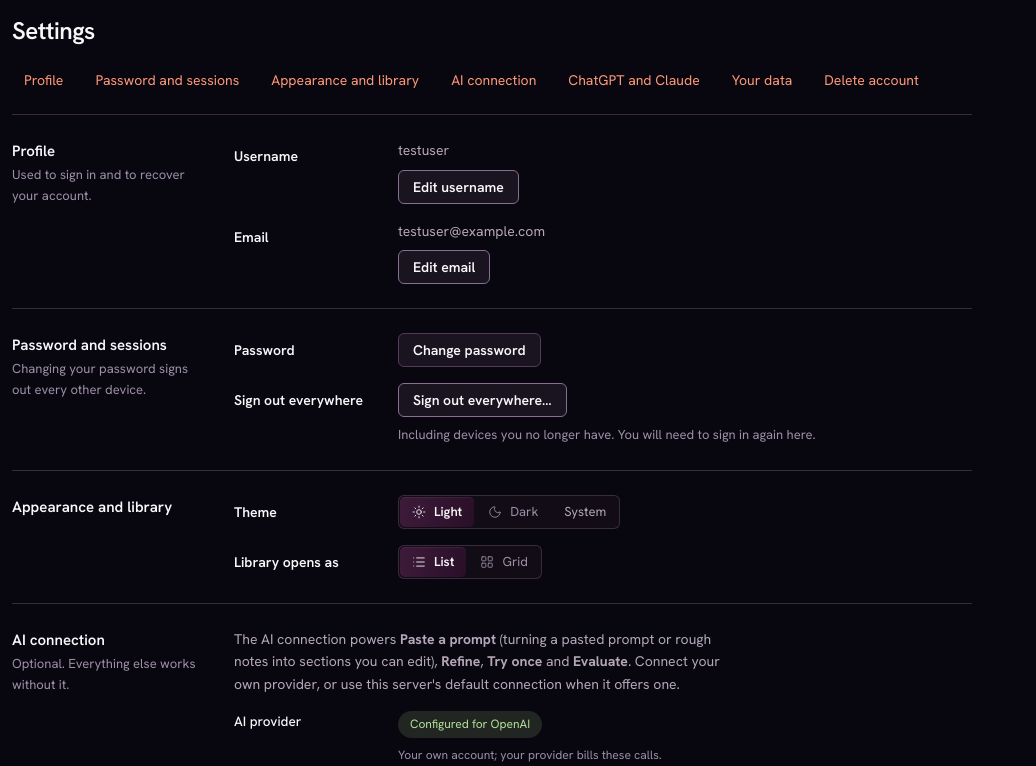
it: SettingsPage › shows an inline error when saving an empty username instead of silently ignoring it
This screenshot has width=1036, height=766.
Click the button "Edit username" at (458, 187), box [398,170,519,204]
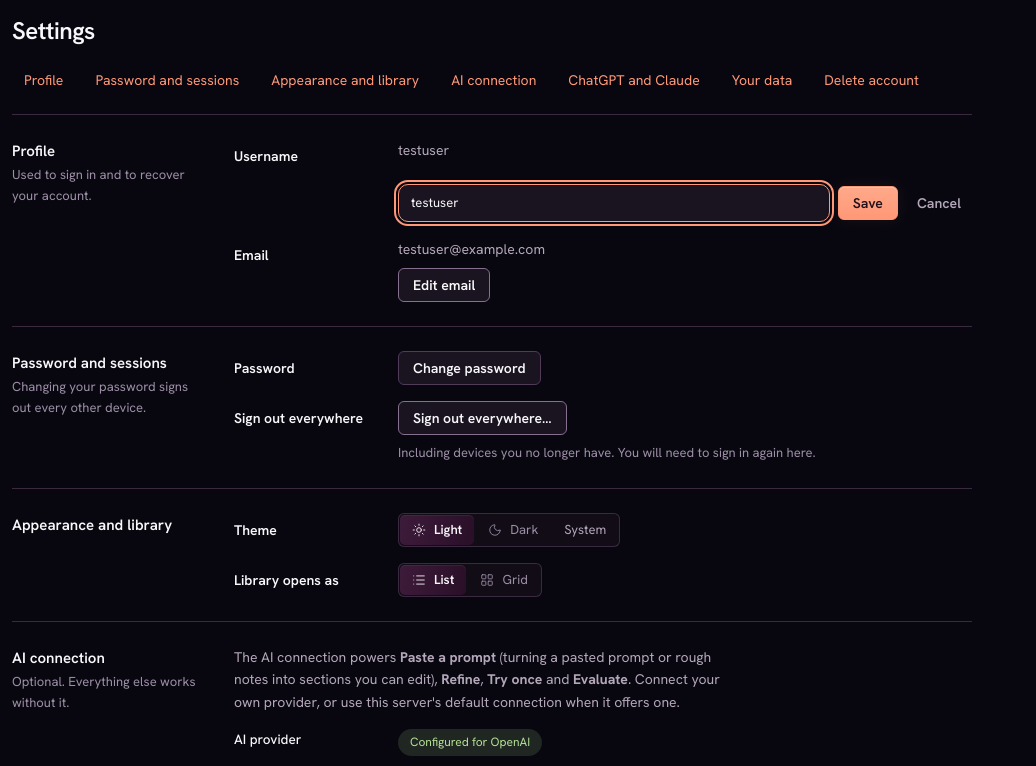
Clear the field showing "testuser" at (614, 203), box [398,184,830,222]
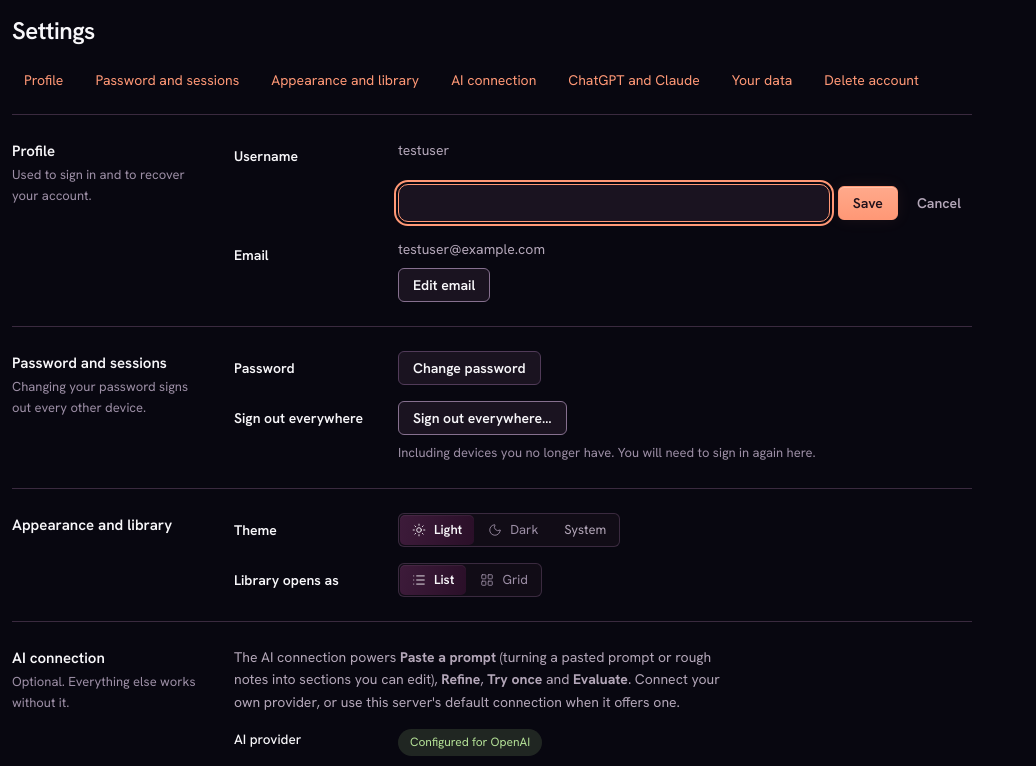
Click the button "Save" at (868, 203), box [838,186,898,220]
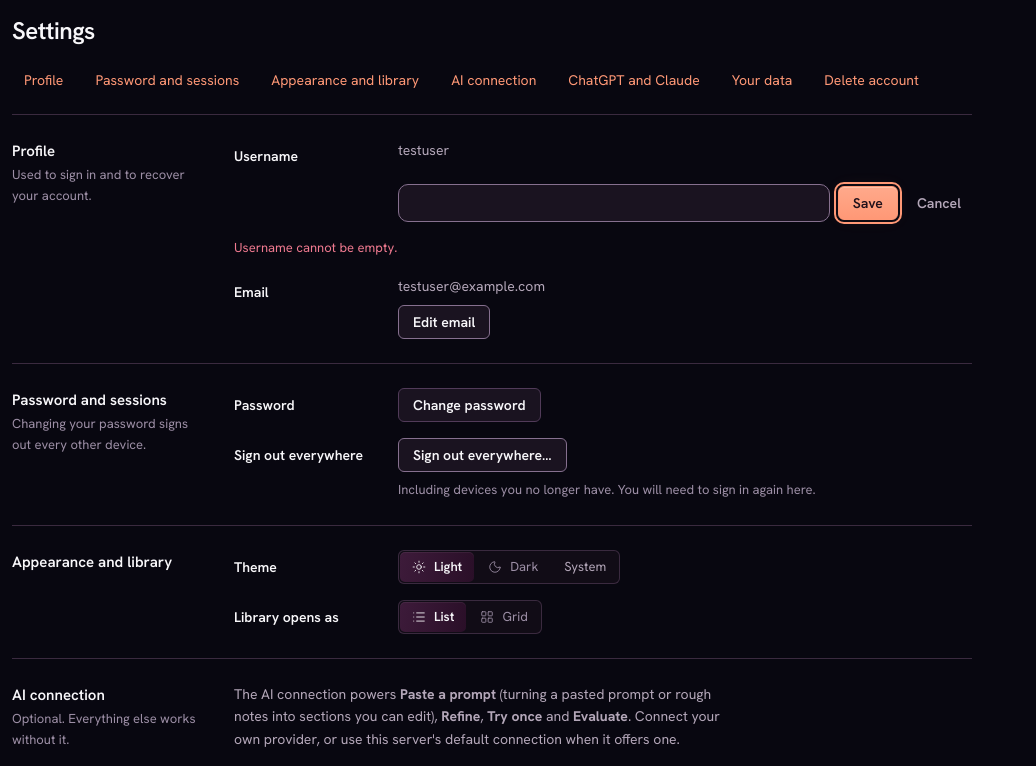
Now the message reads "Username cannot be empty.", box [234,239,397,256]
